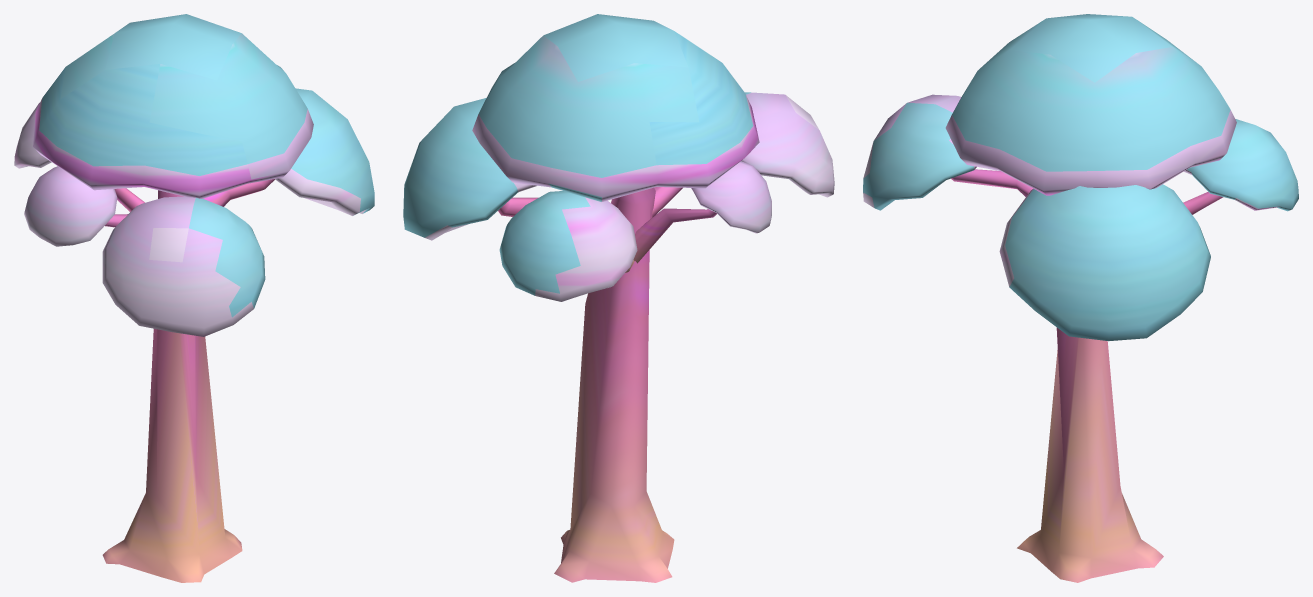
The model's file is grande_seta03.fbx.
3 views of the same model, side by side, from view 1: azimuth 30°, elevation 25°; view 2: azimuth 150°, elevation 25°; view 3: azimuth 270°, elevation 25° (orthographic).
Visible parts, largest first — view 1: SetaXL_03; view 2: SetaXL_03; view 3: SetaXL_03.
Part boxes in pixels (left/top/right/bottom): SetaXL_03: left=14, top=14, right=374, bottom=582; SetaXL_03: left=403, top=14, right=834, bottom=582; SetaXL_03: left=863, top=14, right=1298, bottom=582.
Bounding box in the file's own units: 9477 × 14202 × 10529.
1 material, 1 textured.
